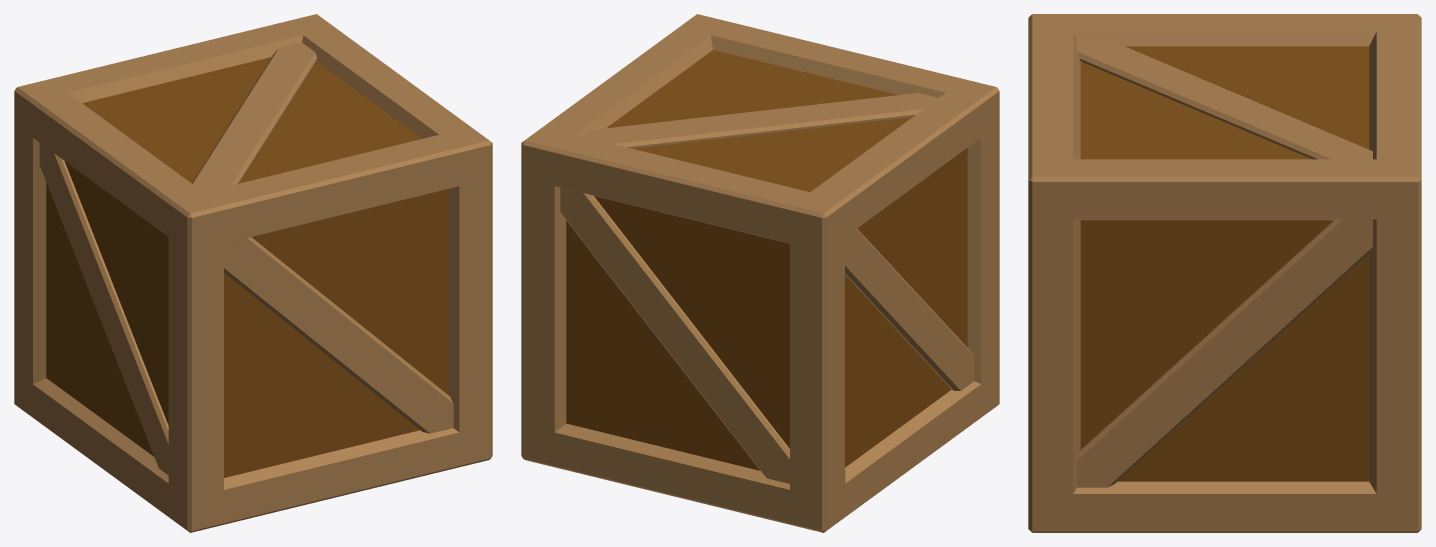
The picture shows the model from 3 angles, left to right: view 1: azimuth 30°, elevation 25°; view 2: azimuth 150°, elevation 25°; view 3: azimuth 270°, elevation 25°; orthographic projection. The views are drawn at different scales.
Visible parts, largest first — view 1: BOX; view 2: BOX; view 3: BOX.
Boxes of the visible parts, left/top/right/bottom form: BOX: left=14, top=14, right=492, bottom=532; BOX: left=521, top=14, right=999, bottom=532; BOX: left=1028, top=14, right=1421, bottom=532.
Bounding box in the file's own units: 200 × 200 × 200.
